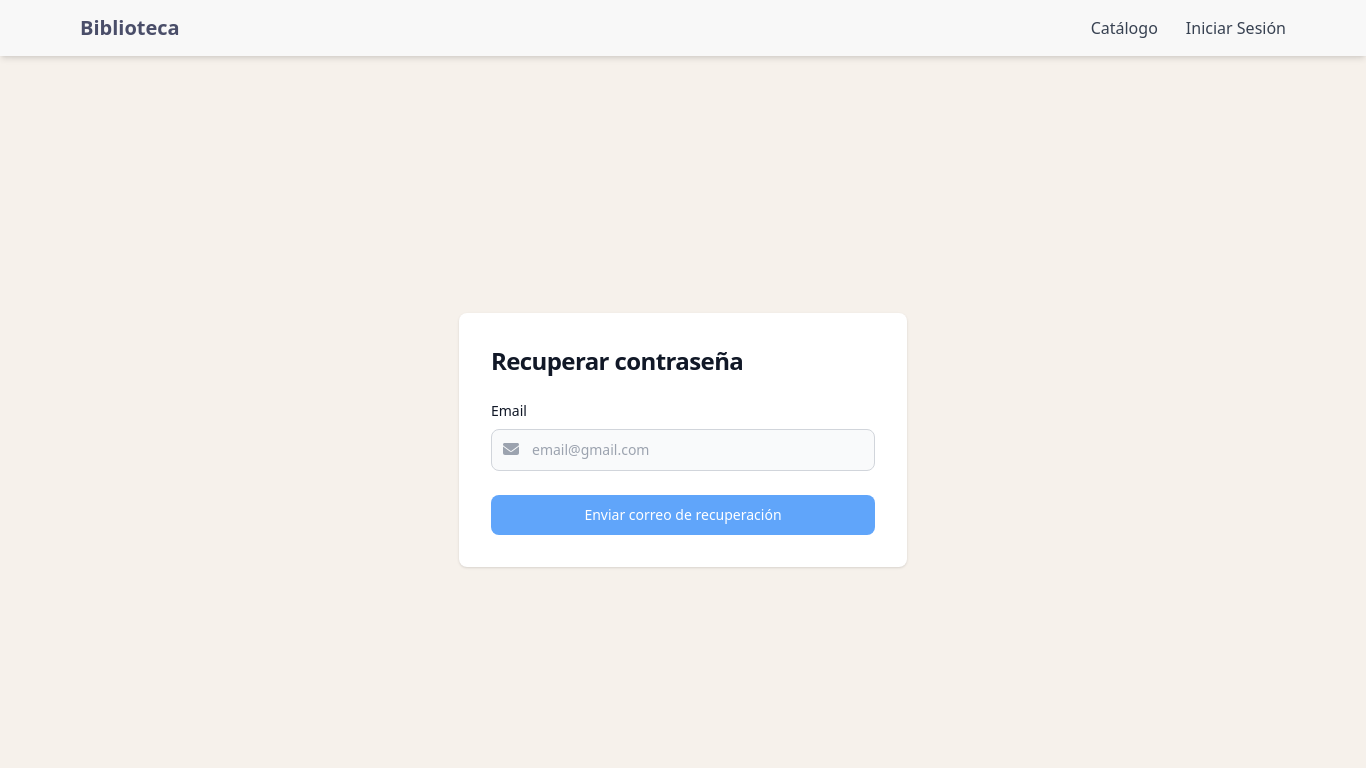
it: should handle form submission with error
The image size is (1366, 768).
Type "test@example.com" into the field with placeholder "email@gmail.com" at (683, 450), box [491,429,875,471]
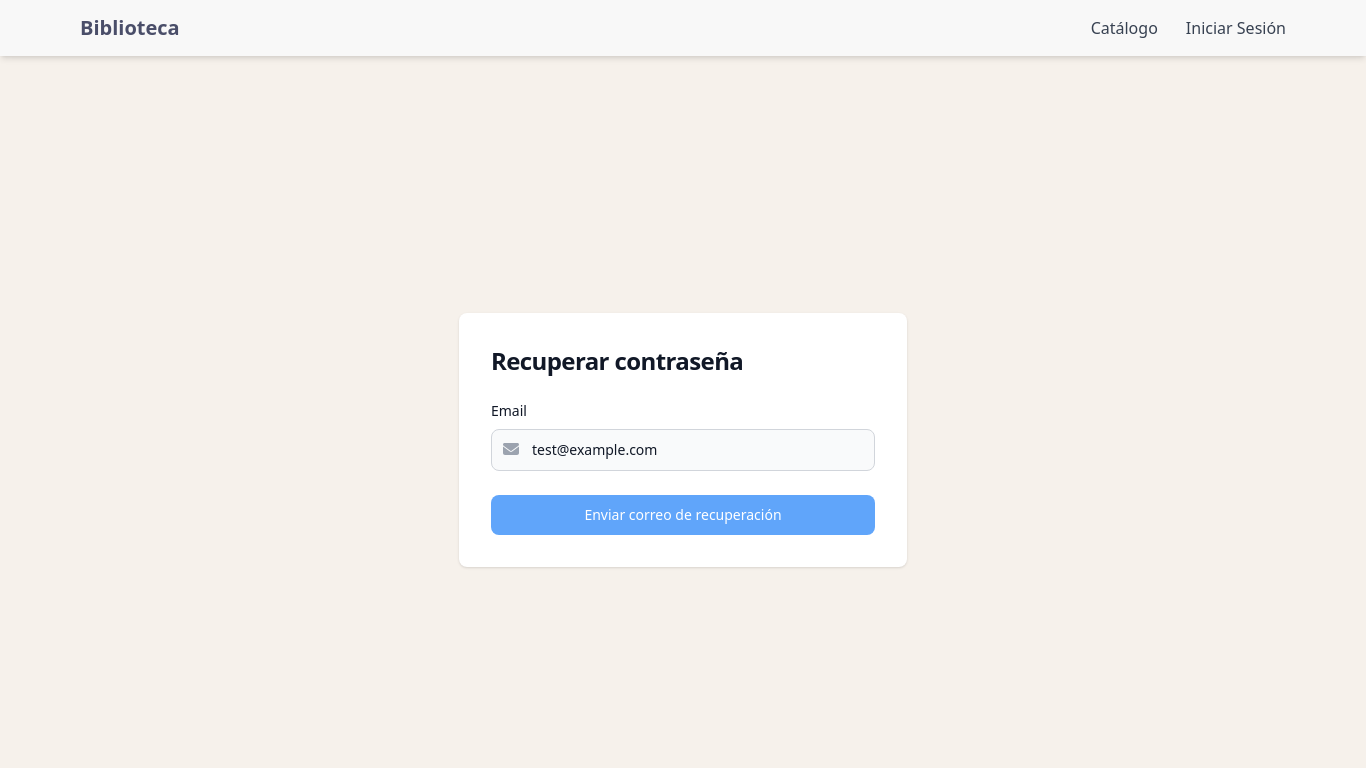
Click the button "Enviar correo de recuperación" at (683, 515), box [491,495,875,535]
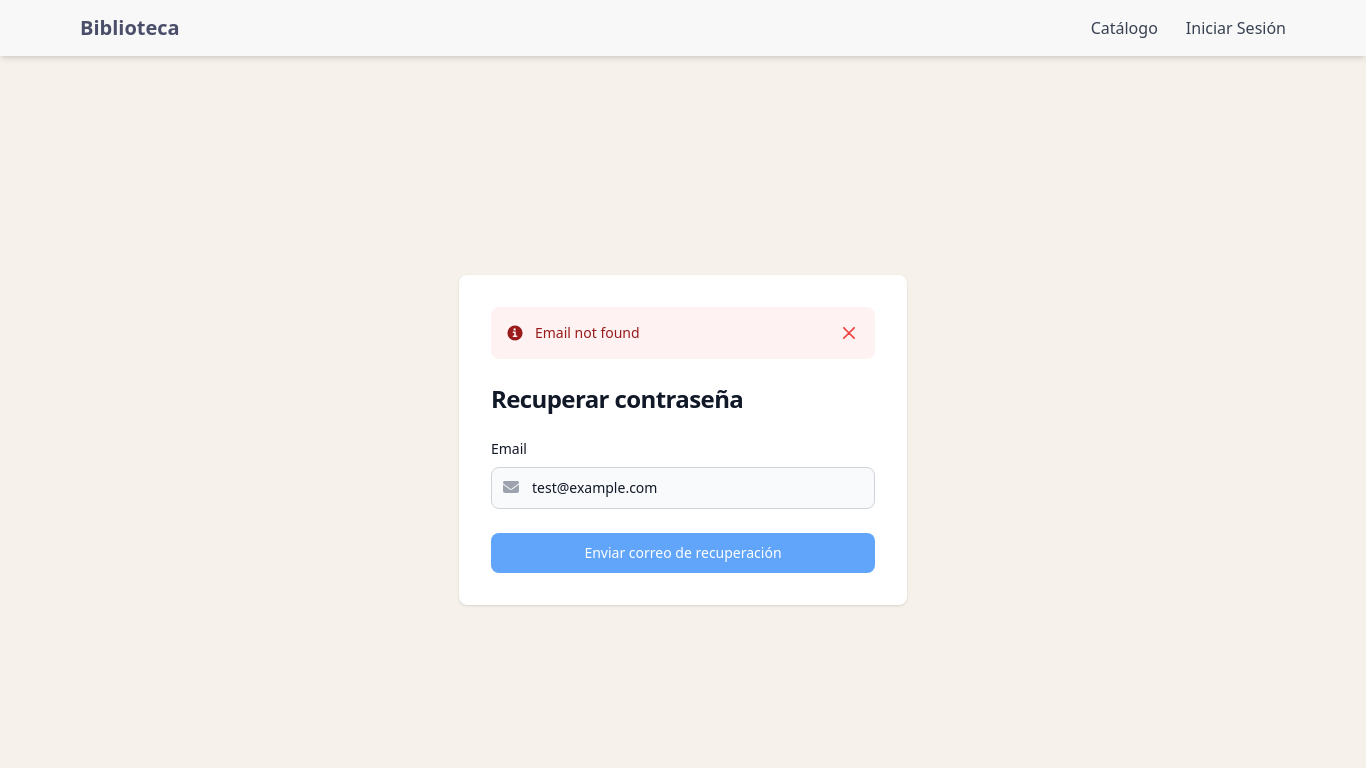
Expected: the text "Email not found" is shown, [535,323,640,343]
